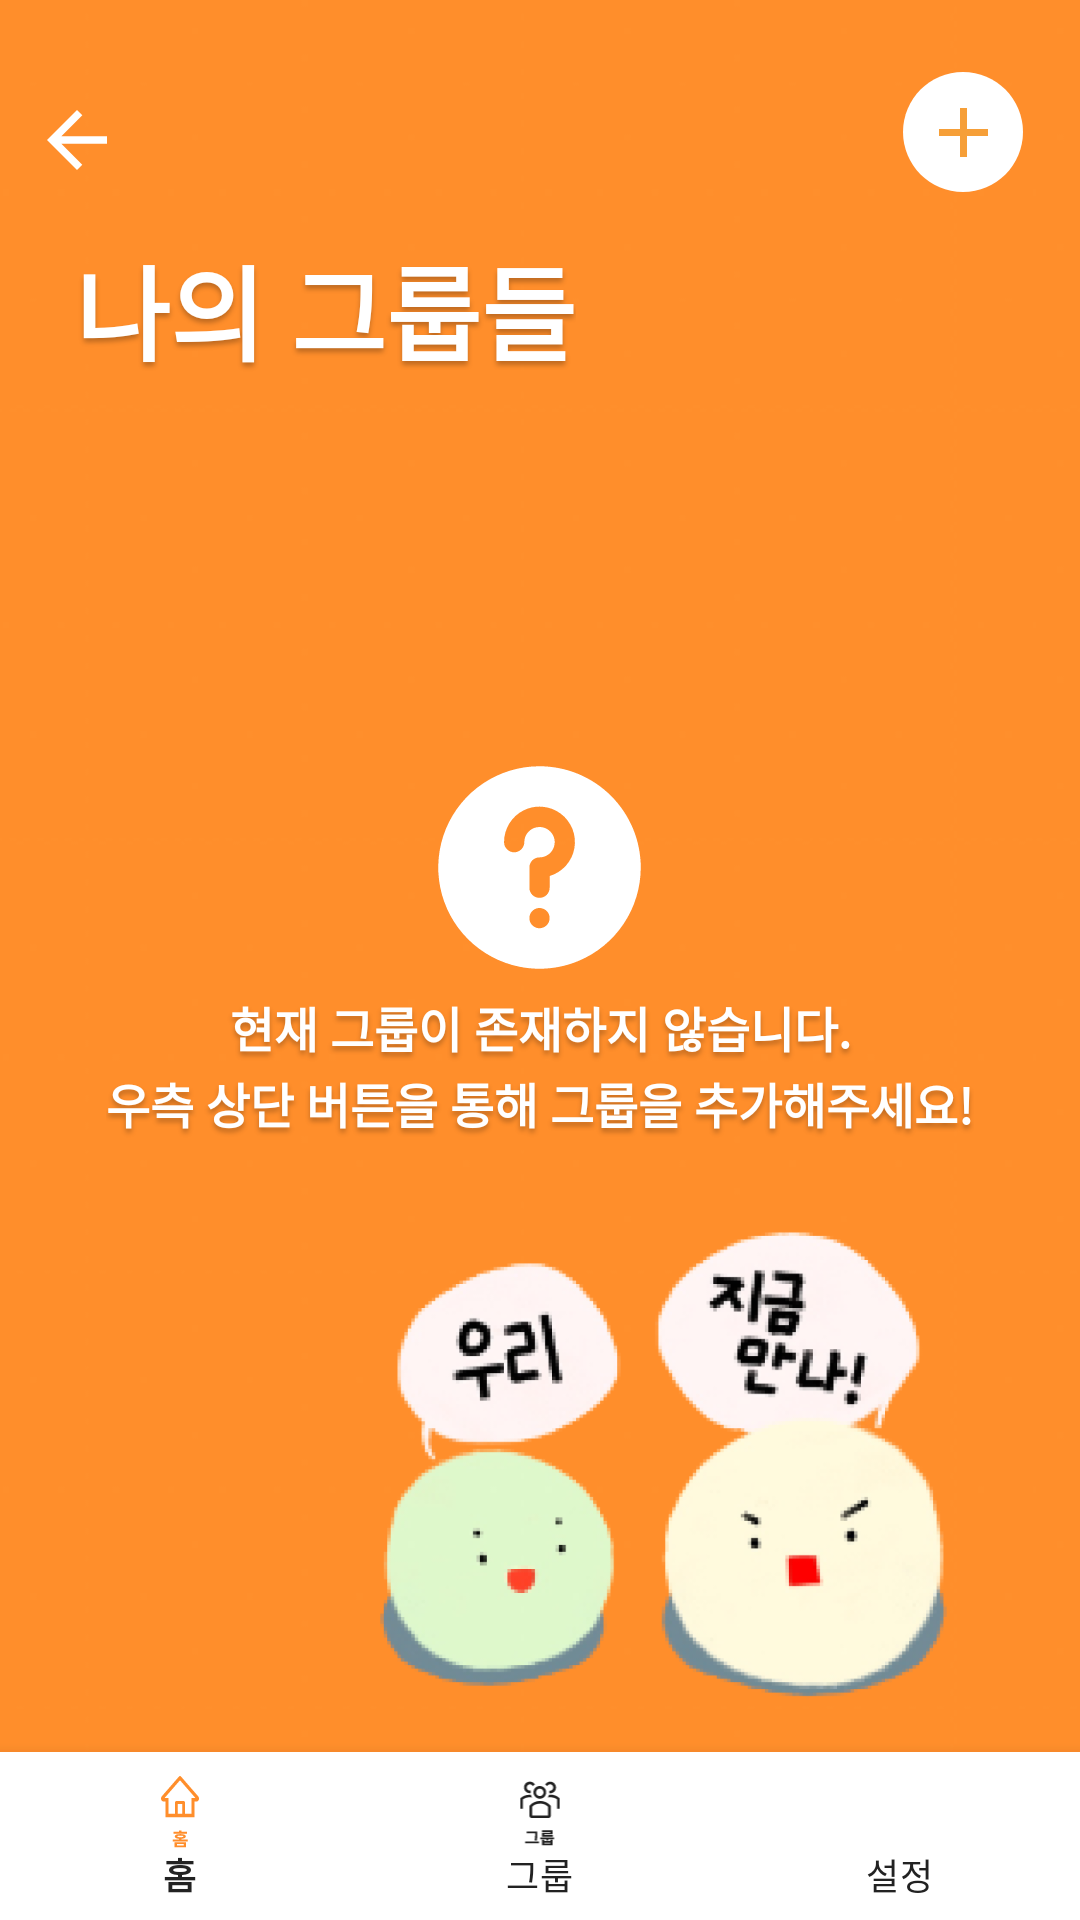

Named icons in this screenshot (1080*1920) and their centers, (x,y):
add: (963,132)
arrow back: (77,140)
question: (539,867)
